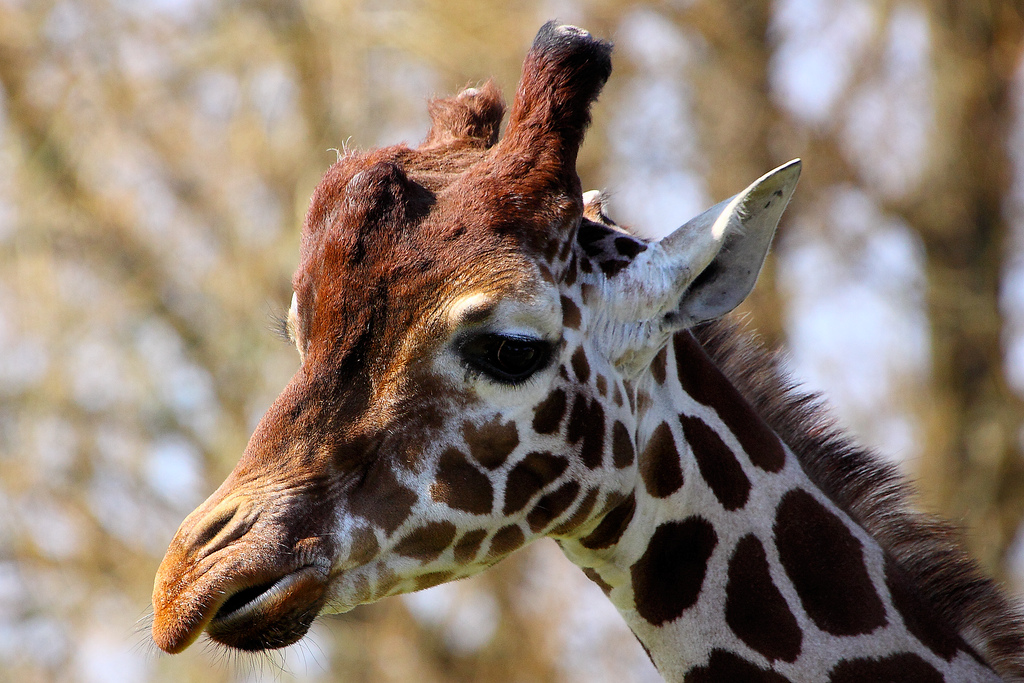giraffe: (146, 23, 1005, 670)
